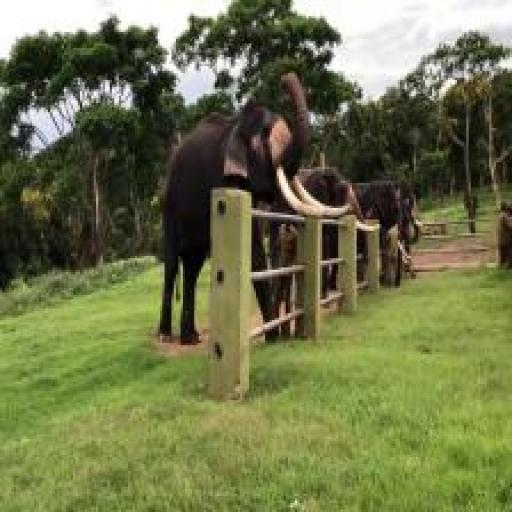Elephant: (156, 75, 314, 223), (372, 172, 420, 236), (320, 160, 367, 218)
